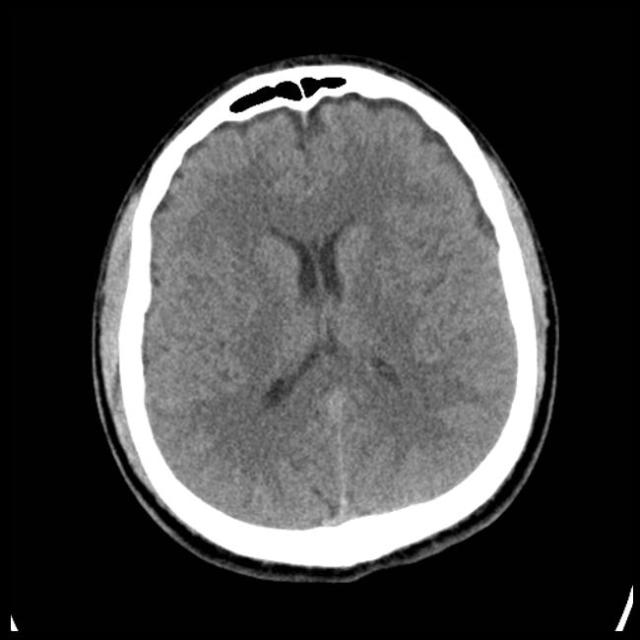lesion: (92, 54, 559, 580)
